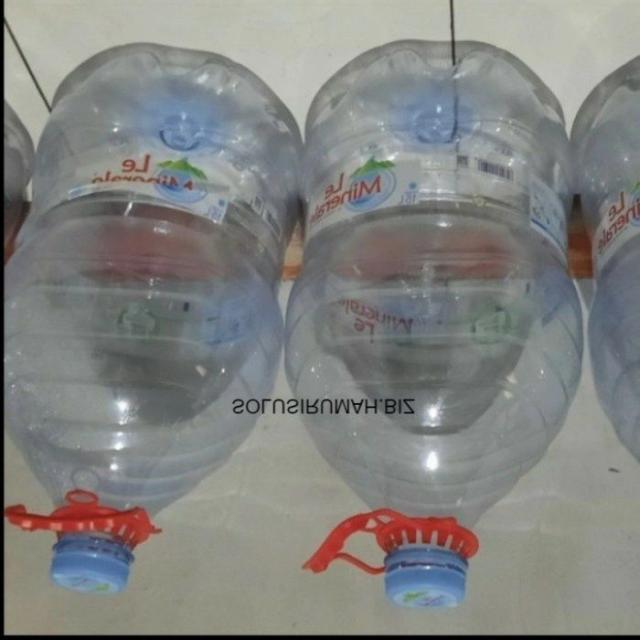Galon: (282, 40, 584, 610), (2, 43, 302, 596)
